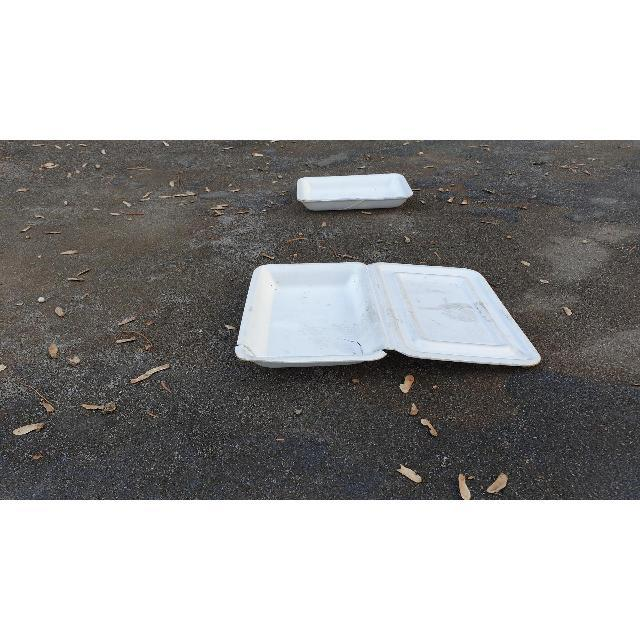Recipiente plastico: (235, 262, 540, 368), (298, 174, 412, 211)
